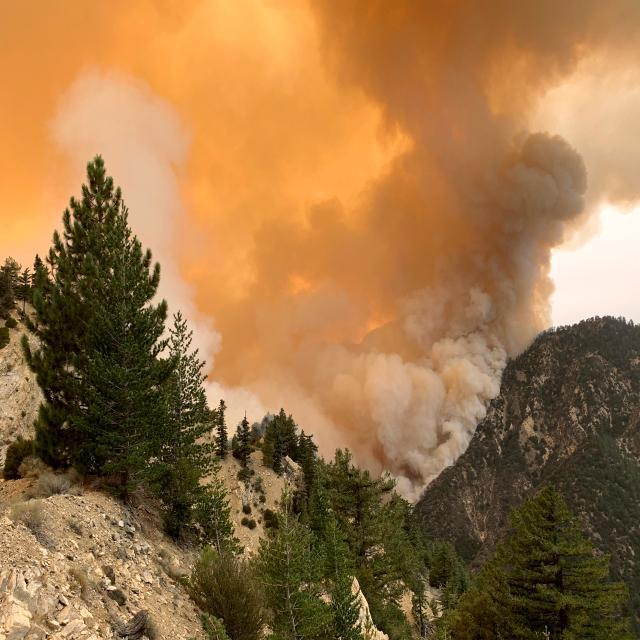Smoke: (153, 0, 640, 465)
